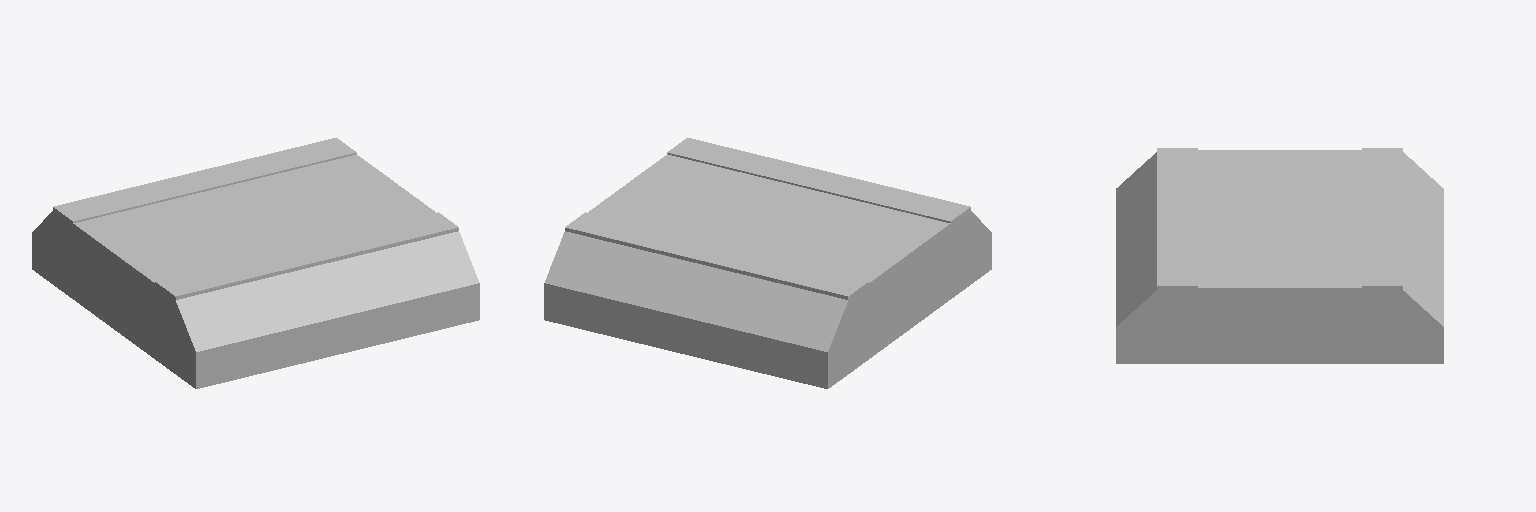
Rendered from road.obj.
The picture shows the model from 3 angles: view 1: azimuth 30°, elevation 25°; view 2: azimuth 150°, elevation 25°; view 3: azimuth 270°, elevation 25°; orthographic projection.
Parts seen in each view (by area): view 1: road-straight-low_Cube.131; view 2: road-straight-low_Cube.131; view 3: road-straight-low_Cube.131.
Boxes of the visible parts, x1,y1,x2,y2 form: road-straight-low_Cube.131: [32, 138, 479, 388]; road-straight-low_Cube.131: [544, 138, 991, 388]; road-straight-low_Cube.131: [1116, 148, 1443, 363].
Bounding box in the file's own units: 8 × 2.1 × 8.